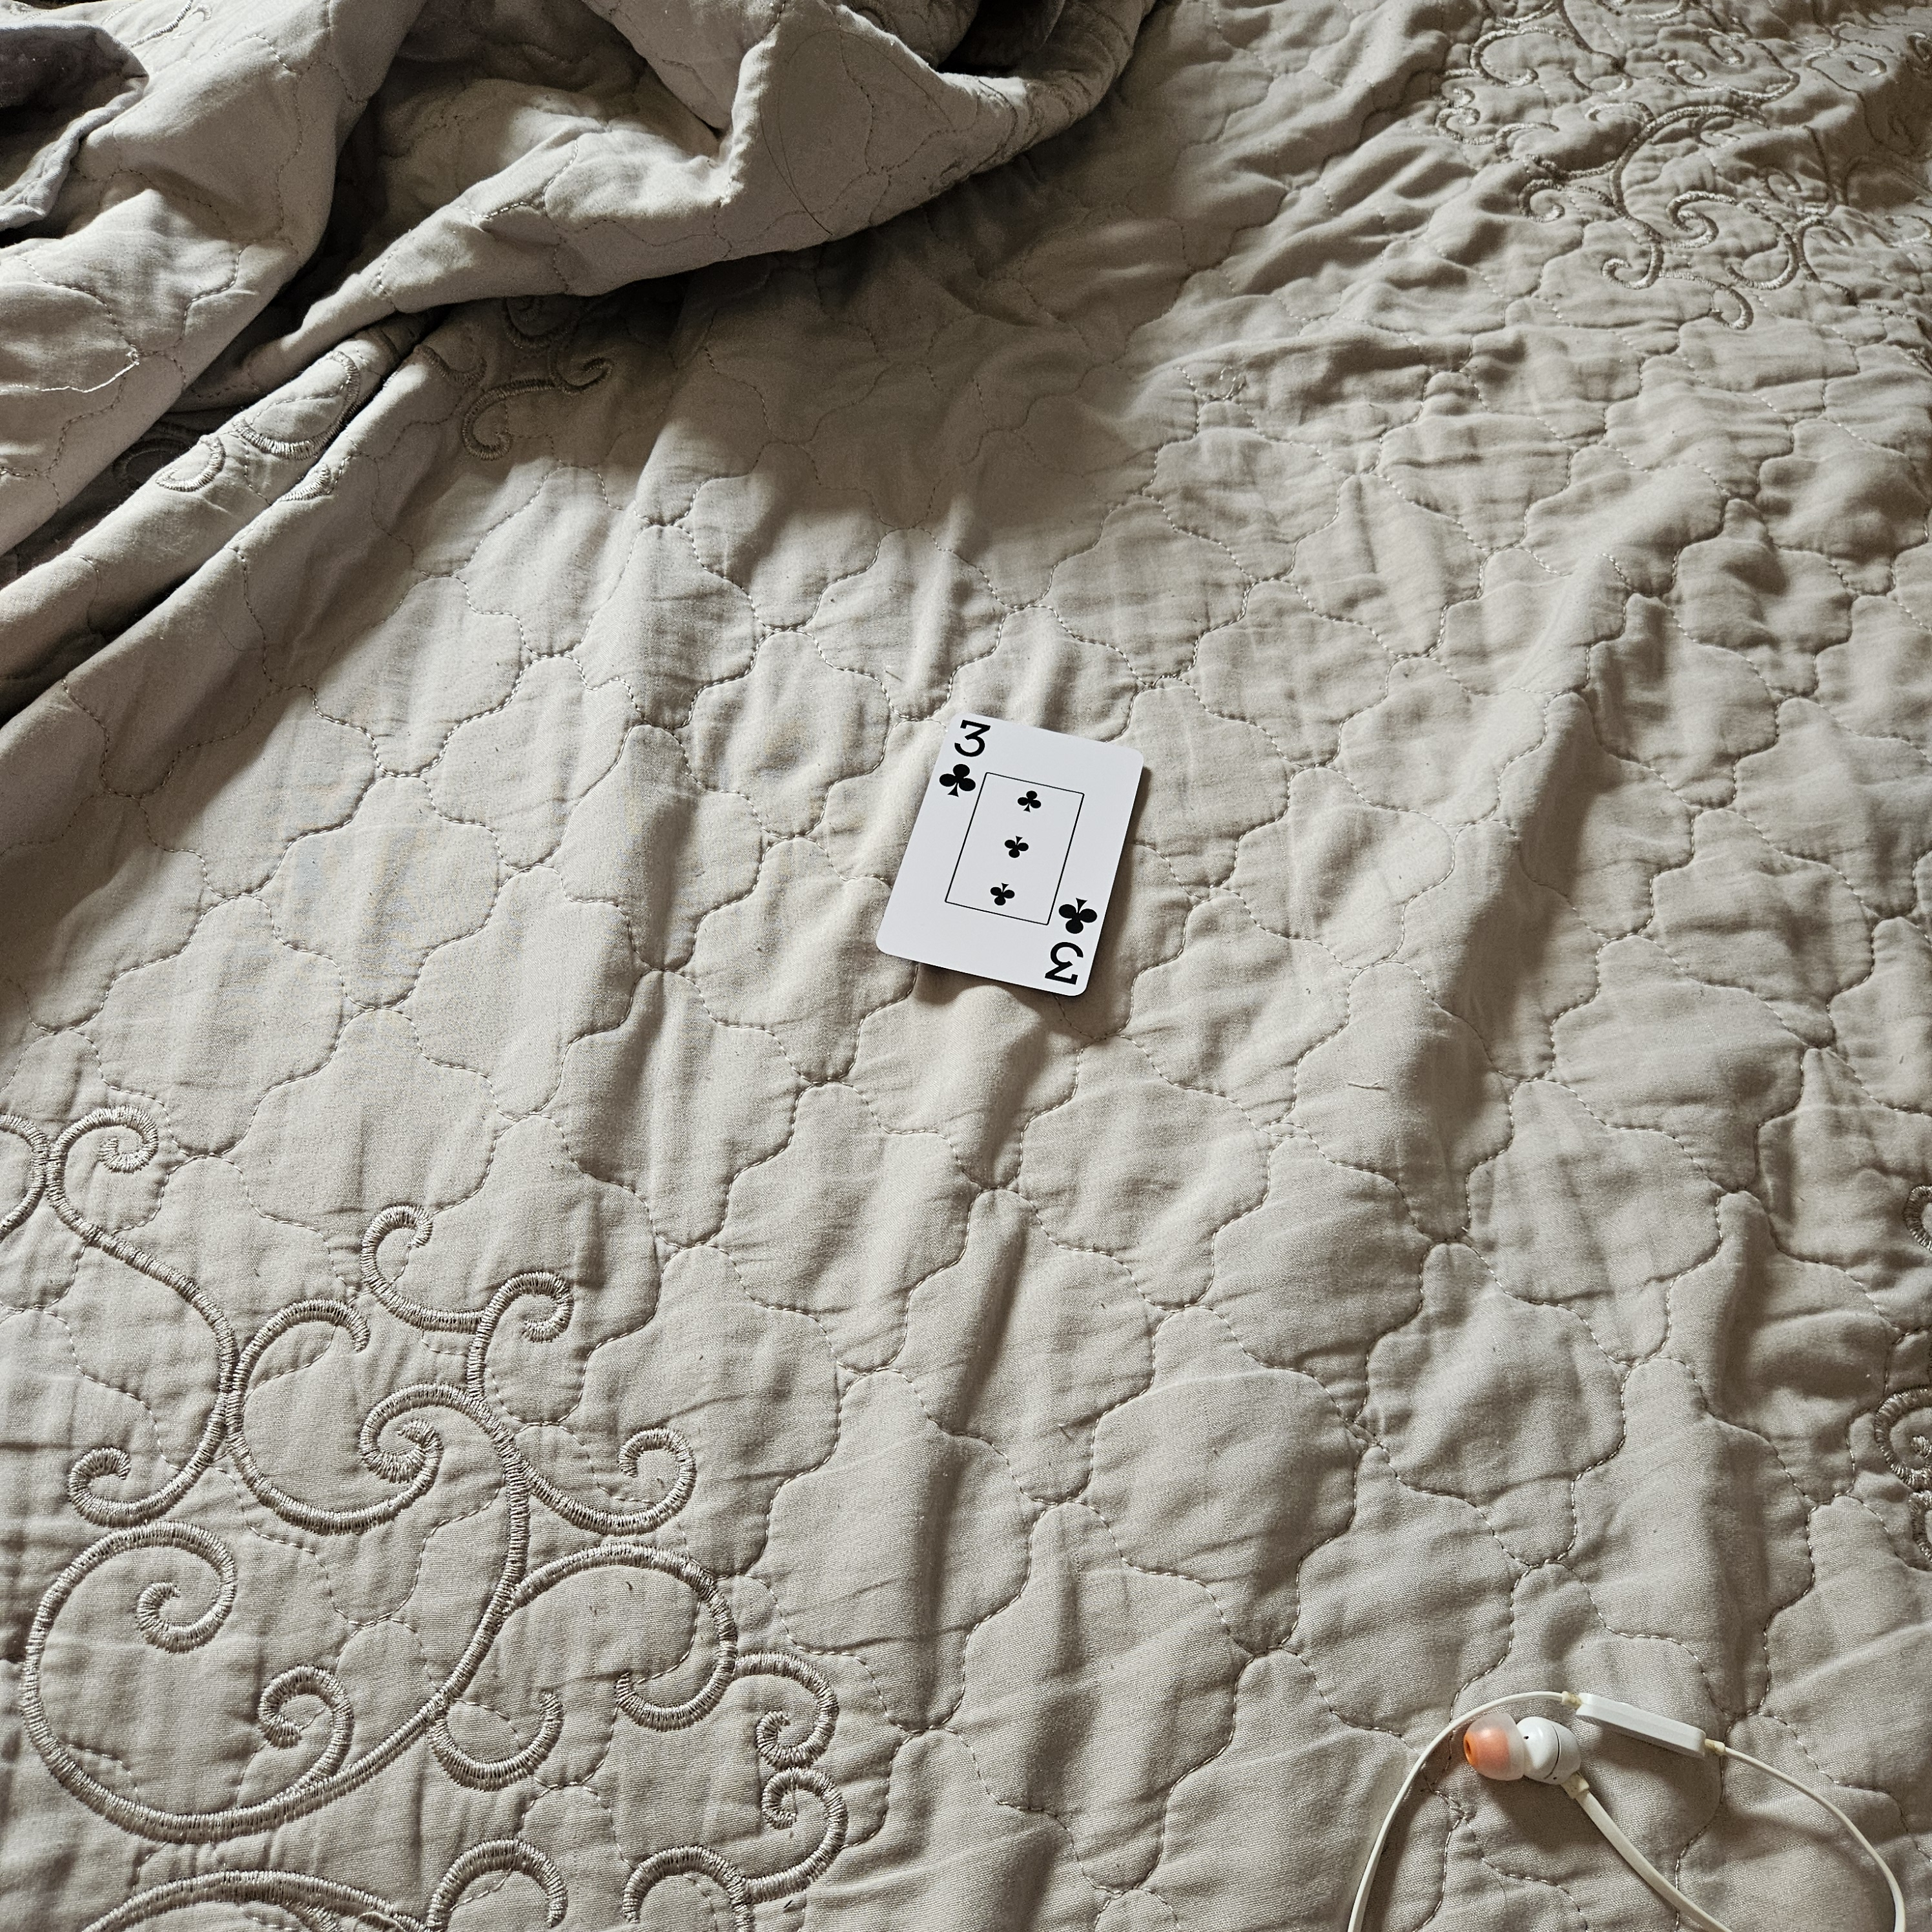3P: (1037, 893, 1100, 993), (931, 711, 996, 800)
